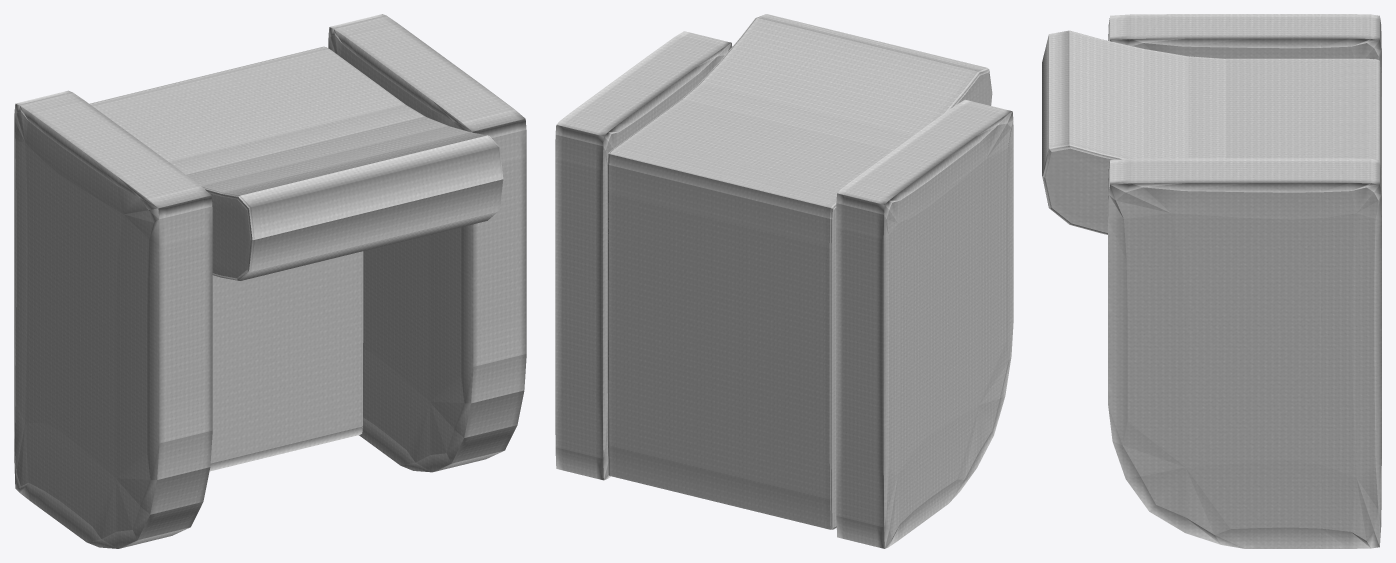
Rendered from ChairmeshArmchair_204_0_GeomSubset_0.obj.
3 renders of one model, left to right at view 1: azimuth 30°, elevation 25°; view 2: azimuth 150°, elevation 25°; view 3: azimuth 270°, elevation 25°, orthographic. The views are drawn at different scales.
Visible parts, largest first — view 1: ChairmeshArmchair_204_0_GeomSubset_0; view 2: ChairmeshArmchair_204_0_GeomSubset_0; view 3: ChairmeshArmchair_204_0_GeomSubset_0.
Boxes of the visible parts, x1,y1,x2,y2 form: ChairmeshArmchair_204_0_GeomSubset_0: (14, 14, 526, 548); ChairmeshArmchair_204_0_GeomSubset_0: (555, 14, 1013, 548); ChairmeshArmchair_204_0_GeomSubset_0: (1042, 14, 1381, 548).
Bounding box in the file's own units: 0.853 × 0.876 × 0.715.
